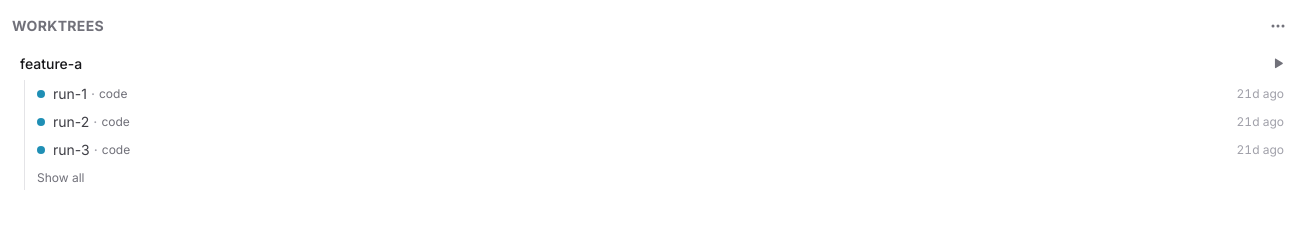
Test case: WorktreeRunsSection › shows only 3 runs initially with a 'Show all' button for more
The image size is (1304, 237).
Check: the text "feature-a" is shown, box [20,55,82,72]
Check: the text "run-1" is shown, box [53,84,87,104]
Click to expand
Click the button "Show all" at (61, 178), box [29,166,92,190]
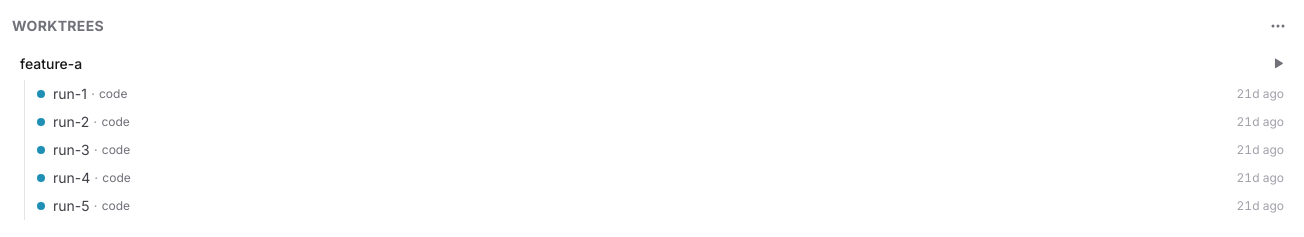
Check: the text "run-4" is shown, box [53,168,90,188]
Check: the text "run-5" is shown, box [53,196,90,216]
